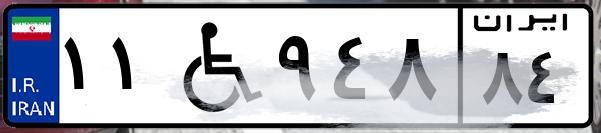1: (57, 26, 110, 100), (110, 28, 158, 98)
4: (330, 28, 385, 110), (525, 38, 570, 115)
8: (385, 28, 445, 110), (475, 38, 525, 113)
9: (270, 28, 330, 110)
ژ (معلولین و جانبازان): (158, 12, 270, 120)
